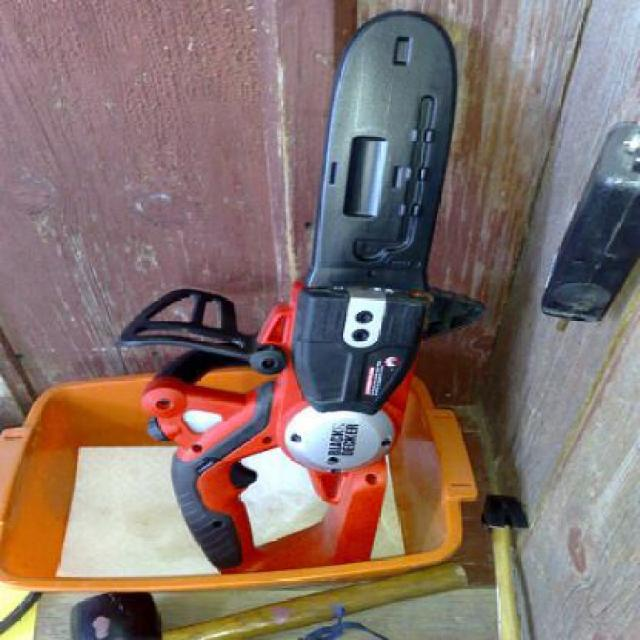Chainsaw: (119, 12, 487, 574)
